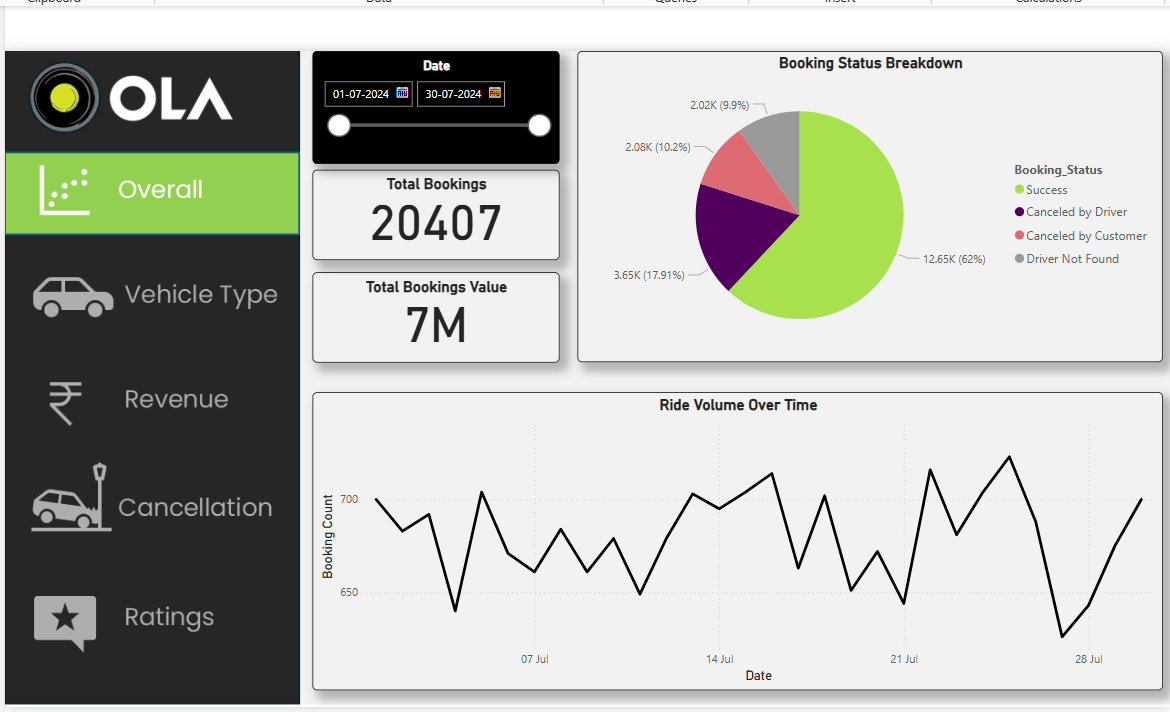

Layout of this report page (visuals, bound fields, positions):
{"tool":"powerbi","page":{"name":"Overall","canvas":[1280,720],"ordinal":0},"visuals":[{"type":"actionButton","box":[0,223.2,324.5,89.3],"z":0},{"type":"actionButton","box":[0,329.4,324.5,89.3],"z":1000},{"type":"actionButton","box":[0,452.4,324.5,89.3],"z":2000},{"type":"actionButton","box":[0,588.7,324.5,89.3],"z":3000},{"type":"lineChart","title":" Ride Volume Over Time","fields":{"Y":["CountNonNull(July.Booking_ID)"],"Category":["July.Date"]},"box":[337.6,374,933.8,327.6],"z":4000},{"type":"pieChart","title":" Booking Status Breakdown","fields":{"Y":["CountNonNull(July.Booking_Status)"],"Category":["July.Booking_Status"]},"box":[628.8,0,642.6,341.4],"z":5000},{"type":"slicer","title":"Date","fields":{"Values":["July.Date"]},"box":[337.6,0,271.1,124.3],"z":6000},{"type":"card","title":"Total Bookings","fields":{"Values":["CountNonNull(July.Booking_ID)"]},"box":[337.6,130.5,271.1,99.2],"z":7000},{"type":"card","title":"Total Bookings Value","fields":{"Values":["Sum(July.Booking_Value)"]},"box":[337.6,242.2,271.1,99.2],"z":8000}]}

Visuals, with their boxes on the page's 1280x720 design canvas (x1, y1, x2, y2). These are canvas units, not pixel positions in the 1170x712 screenshot, which may show the page scaled, cropped or inside an application window:
actionButton: 0 223 324 312
actionButton: 0 329 324 419
actionButton: 0 452 324 542
actionButton: 0 589 324 678
" Ride Volume Over Time" lineChart: 338 374 1271 702
" Booking Status Breakdown" pieChart: 629 0 1271 341
"Date" slicer: 338 0 609 124
"Total Bookings" card: 338 130 609 230
"Total Bookings Value" card: 338 242 609 341
